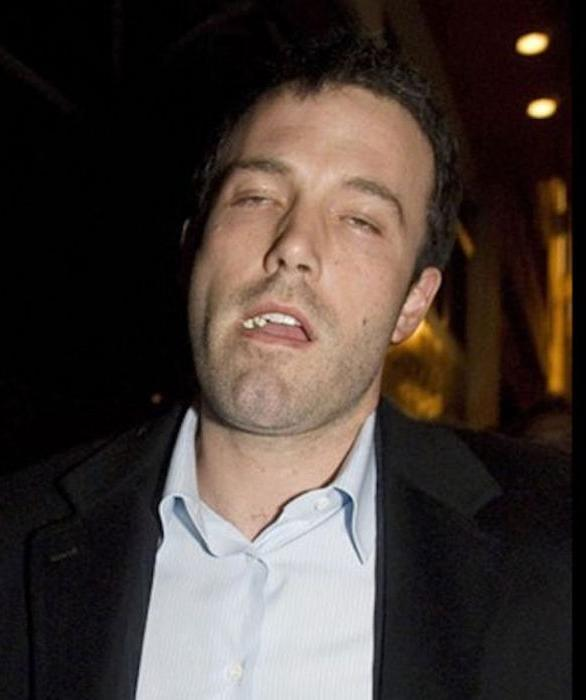Drunk: (199, 103, 416, 408)
